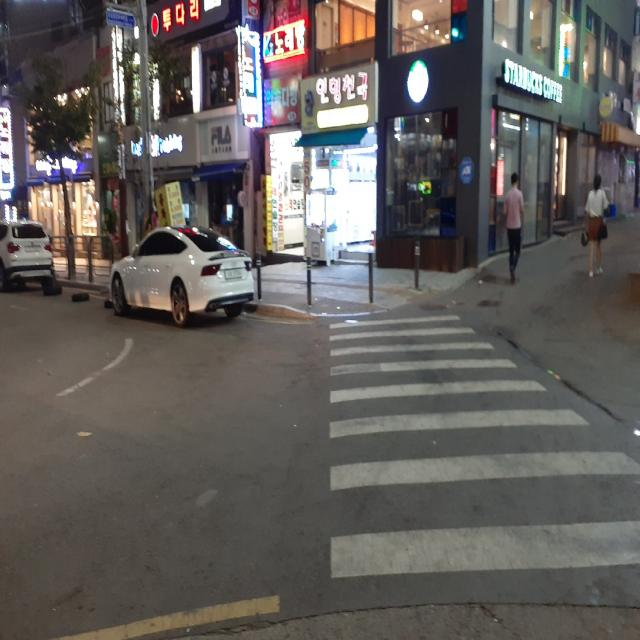횡단보도: (325, 312, 640, 584)
